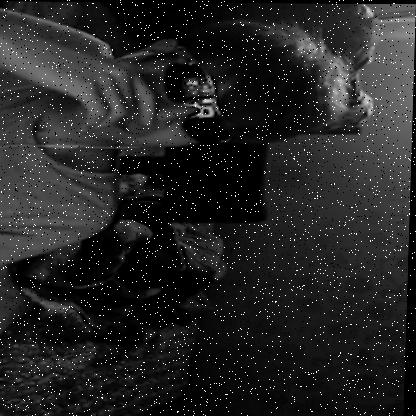streamer: (0, 5, 354, 272)
